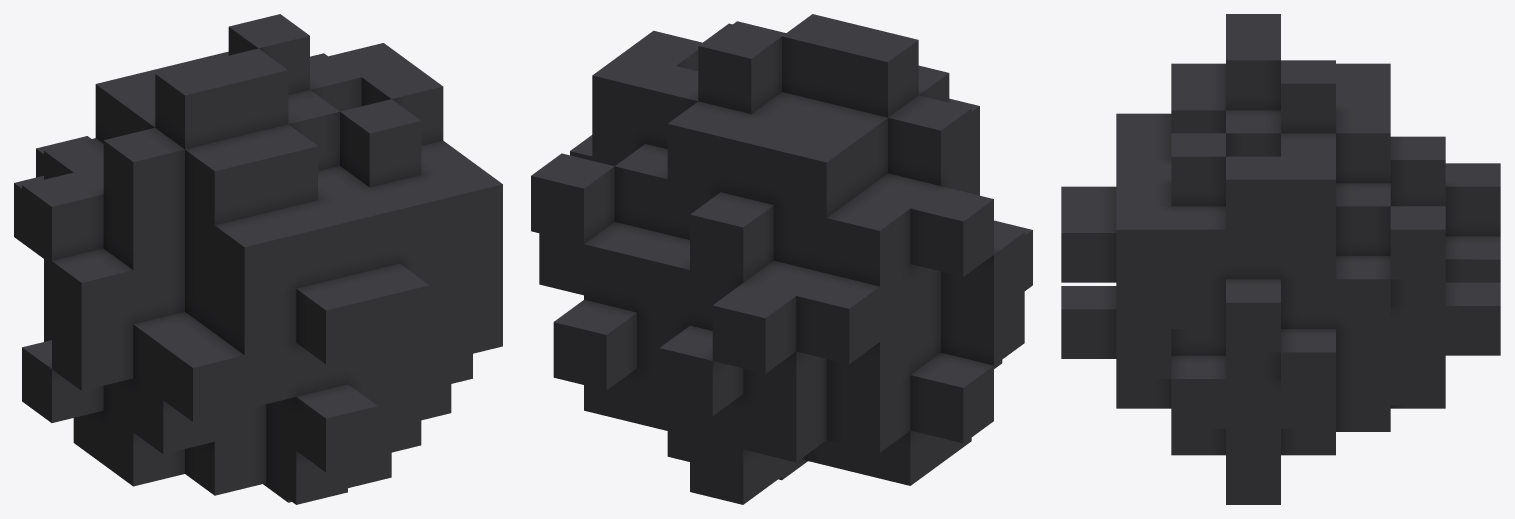
Rendered from cm_puff_d.glb.
3 renders of one model, left to right at view 1: azimuth 30°, elevation 25°; view 2: azimuth 150°, elevation 25°; view 3: azimuth 270°, elevation 25°, orthographic. The views are drawn at different scales.
Visible parts, largest first — view 1: cm_puff_d_body; view 2: cm_puff_d_body; view 3: cm_puff_d_body.
Part boxes in pixels (x1,y1,x2,y2): cm_puff_d_body: [14, 14, 502, 504]; cm_puff_d_body: [531, 14, 1032, 504]; cm_puff_d_body: [1061, 14, 1500, 504].
Size of the model in its own units: 1 by 1 by 1.
Materials: 1 (1 with a texture image).
